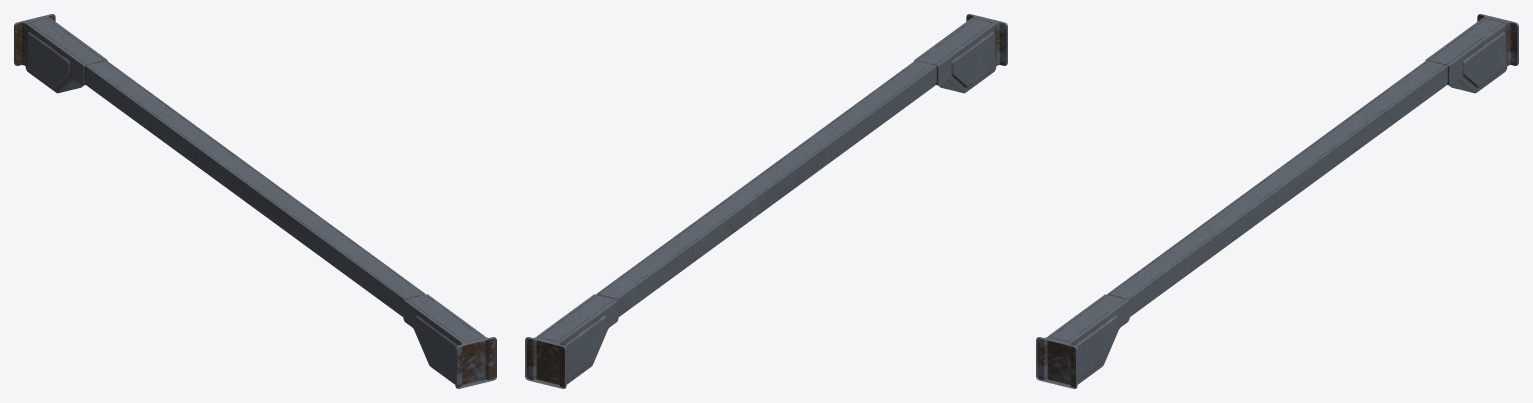
File: SM_RoofAccessories02.fbx
3 views of the same model, side by side, from view 1: azimuth 30°, elevation 25°; view 2: azimuth 150°, elevation 25°; view 3: azimuth 330°, elevation 25° (orthographic).
Parts seen in each view (by area): view 1: SM_RoofAccessories02_LOD0; view 2: SM_RoofAccessories02_LOD0; view 3: SM_RoofAccessories02_LOD0.
Part boxes in pixels (left/top/right/bottom): SM_RoofAccessories02_LOD0: left=14, top=14, right=496, bottom=388; SM_RoofAccessories02_LOD0: left=525, top=14, right=1007, bottom=388; SM_RoofAccessories02_LOD0: left=1036, top=14, right=1518, bottom=388.
Bounding box in the file's own units: 38.74 × 734 × 43.41.
Materials: 1 (1 with a texture image).
